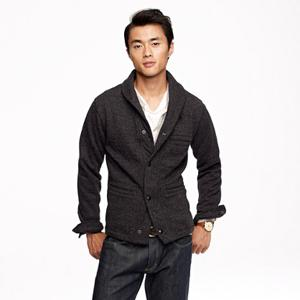S_cardigan sweater: (69, 80, 221, 247)
